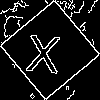X: (25, 25, 63, 74)
